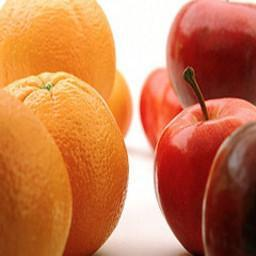apple: (153, 97, 256, 254), (168, 1, 255, 112)
